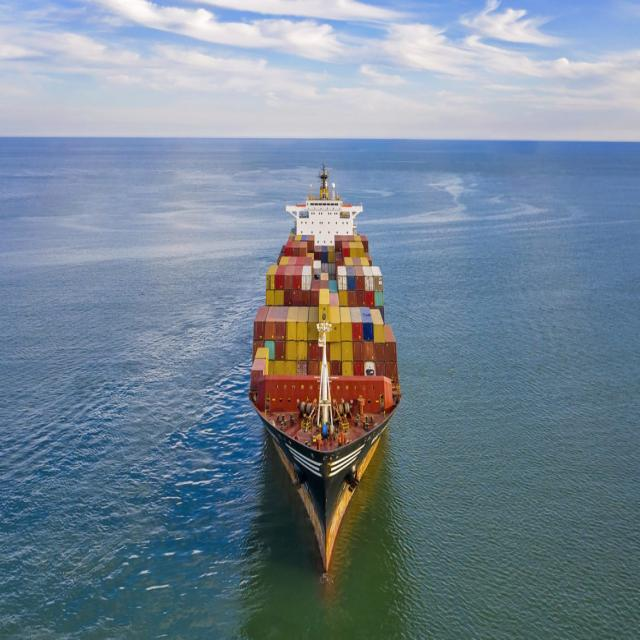PassengerShip: (172, 119, 422, 601)
